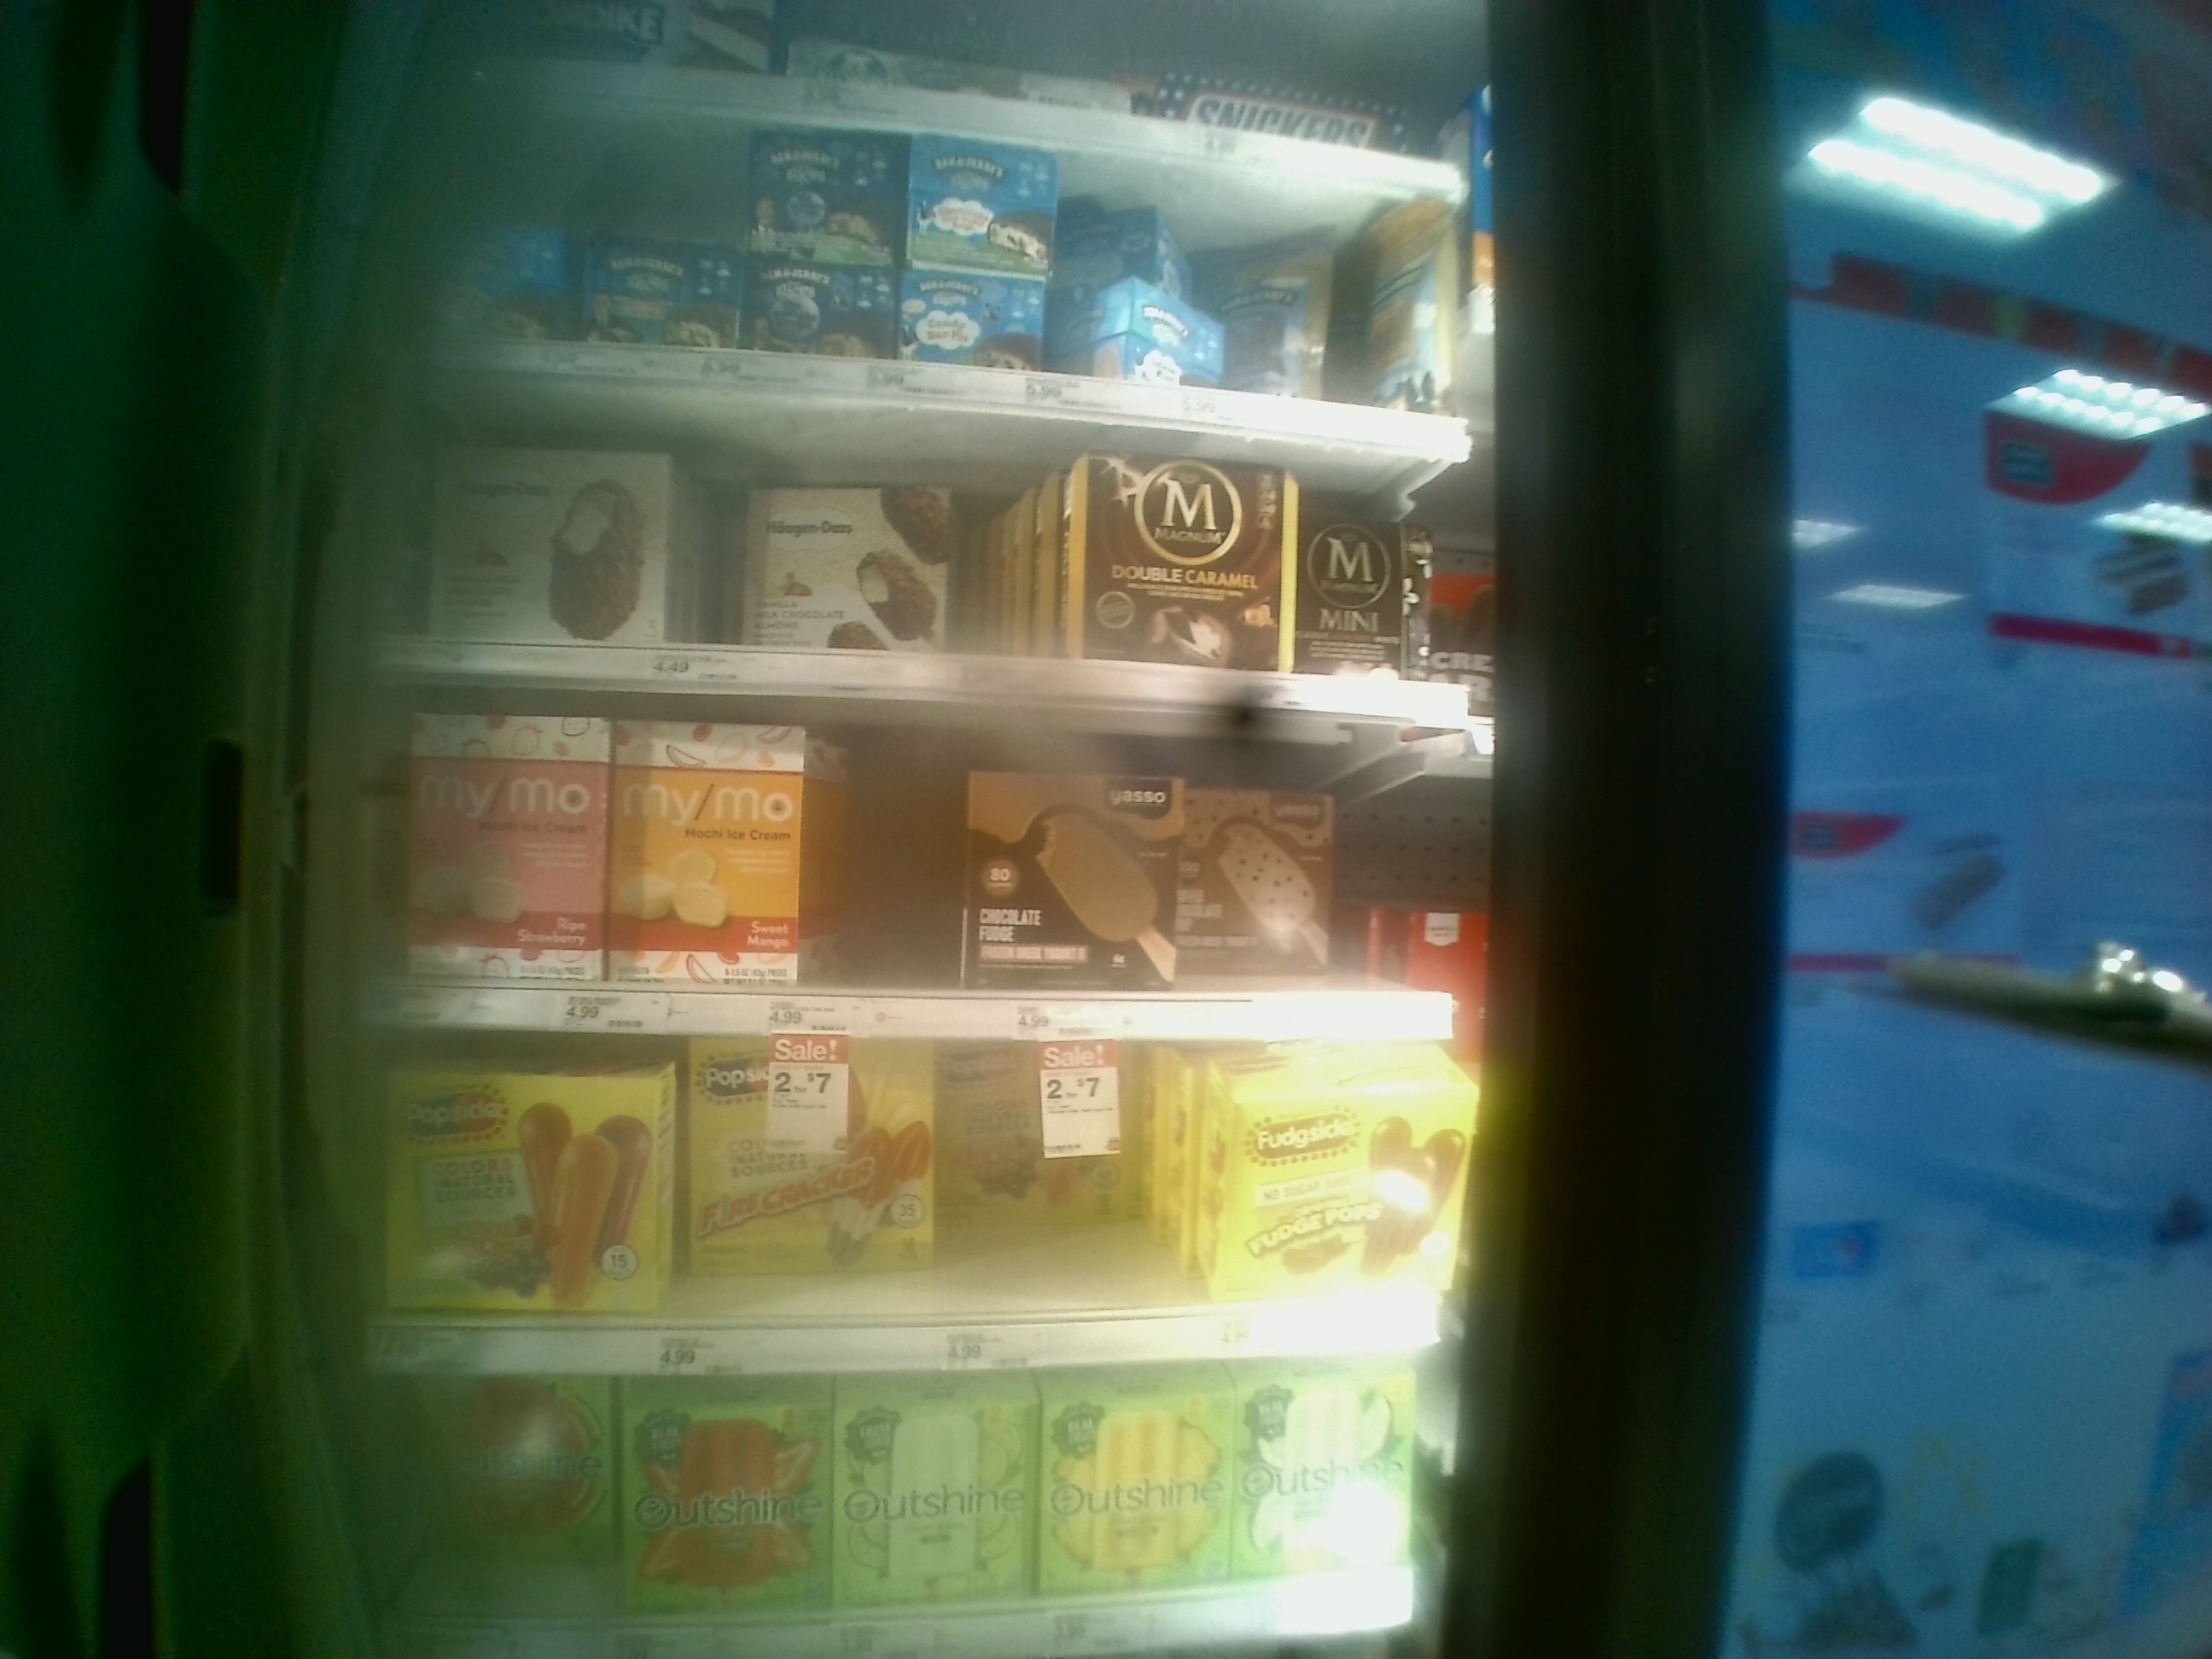ice-cream-shelf: (388, 692, 1489, 1044), (376, 1044, 1447, 1364)
